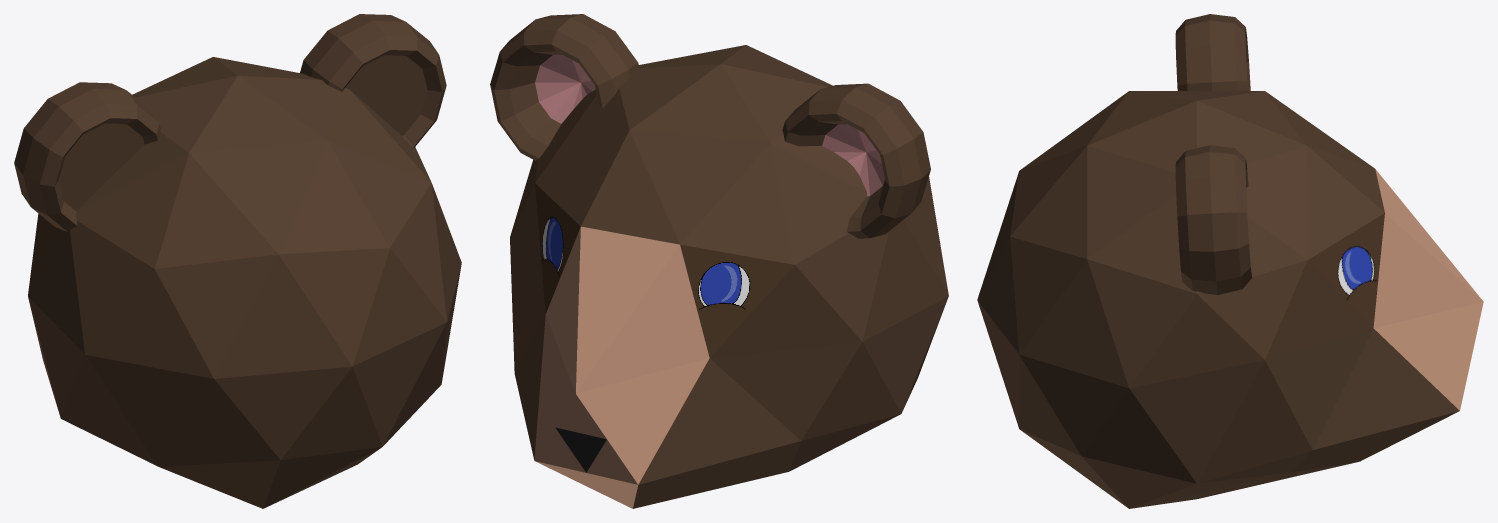
Rendered from bear.glb.
3 renders of one model, left to right at view 1: azimuth 30°, elevation 25°; view 2: azimuth 150°, elevation 25°; view 3: azimuth 270°, elevation 25°, orthographic. The views are drawn at different scales.
Visible parts, largest first — view 1: head, right ear, left ear; view 2: head, left ear, right ear; view 3: head, left ear, right ear.
Boxes of the visible parts, left/top/right/bottom form: head: left=28, top=57, right=461, bottom=508; right ear: left=14, top=82, right=160, bottom=231; left ear: left=300, top=14, right=446, bottom=147; head: left=510, top=45, right=948, bottom=508; left ear: left=490, top=14, right=638, bottom=160; right ear: left=782, top=83, right=930, bottom=238; head: left=977, top=91, right=1483, bottom=508; left ear: left=1175, top=145, right=1252, bottom=294; right ear: left=1175, top=14, right=1250, bottom=91.
Size of the model in its own units: 2.09 by 2.08 by 2.3.
6 materials, 2 textured.
